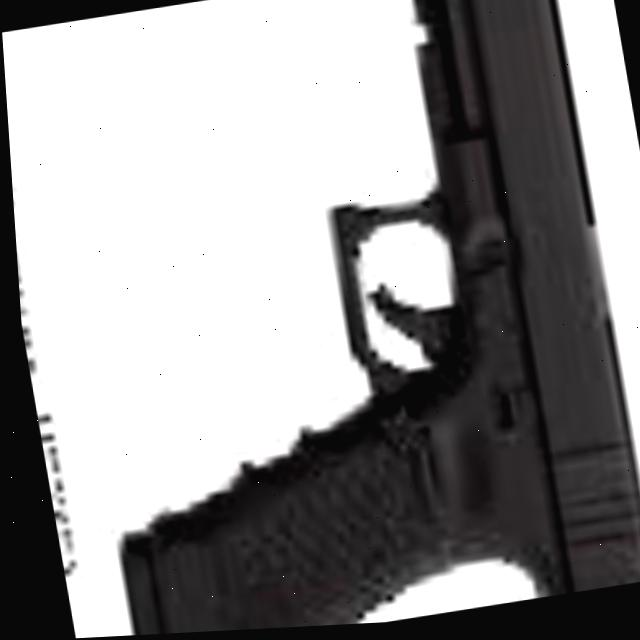pistol: (19, 0, 640, 639), (101, 0, 640, 637)
